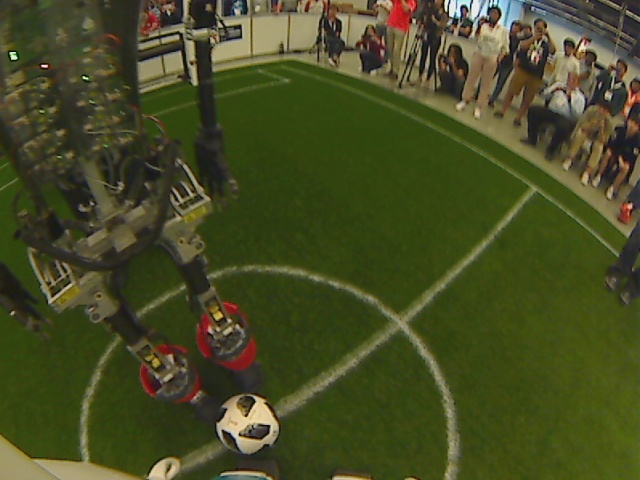ball: (214, 392, 283, 458)
